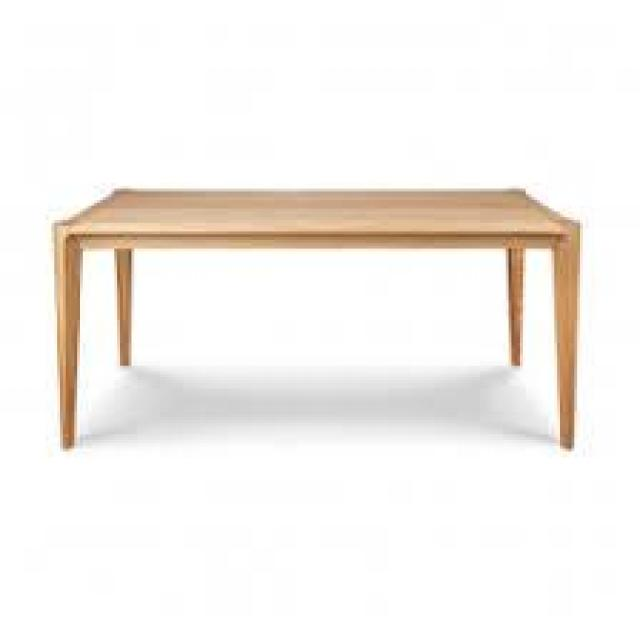table: (23, 114, 600, 506)
